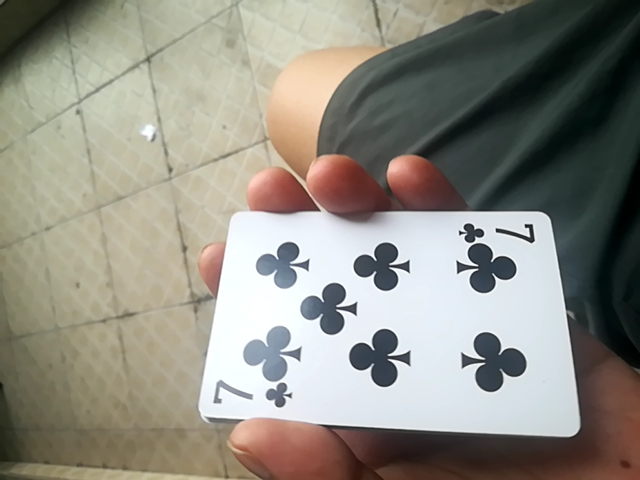mh 7: (193, 206, 582, 436)
